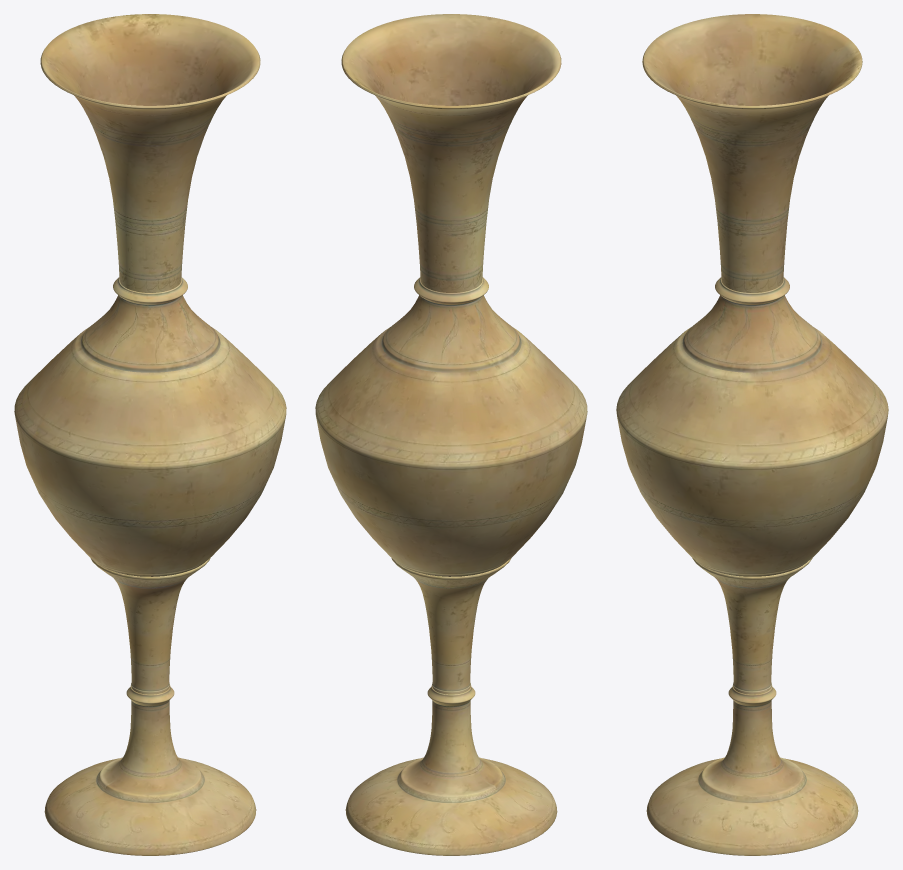
File: brass_vase_01.glb
3 views of the same model, side by side, from view 1: azimuth 30°, elevation 25°; view 2: azimuth 150°, elevation 25°; view 3: azimuth 270°, elevation 25° (orthographic).
Parts seen in each view (by area): view 1: brass_vase_01; view 2: brass_vase_01; view 3: brass_vase_01.
Part boxes in pixels (<box>): brass_vase_01: <box>14,14,286,855</box>; brass_vase_01: <box>315,14,587,855</box>; brass_vase_01: <box>616,14,888,855</box>.
Size of the model in its own units: 0.2273 by 0.6925 by 0.2273.
1 material, 1 textured.
